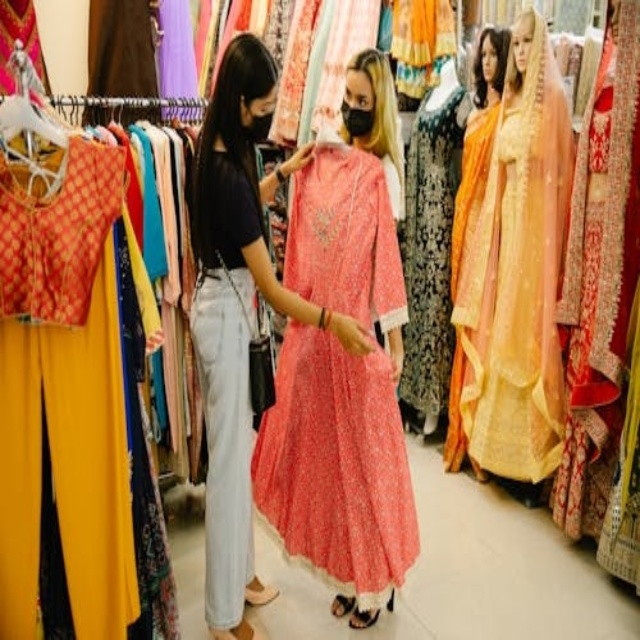Mascara: (341, 99, 375, 138), (247, 104, 275, 143)
Sin_gafas: (344, 83, 375, 108), (253, 90, 282, 113)
Sin_guantes: (328, 308, 371, 357), (278, 140, 315, 181)
Sin_mascara: (513, 46, 531, 79)
